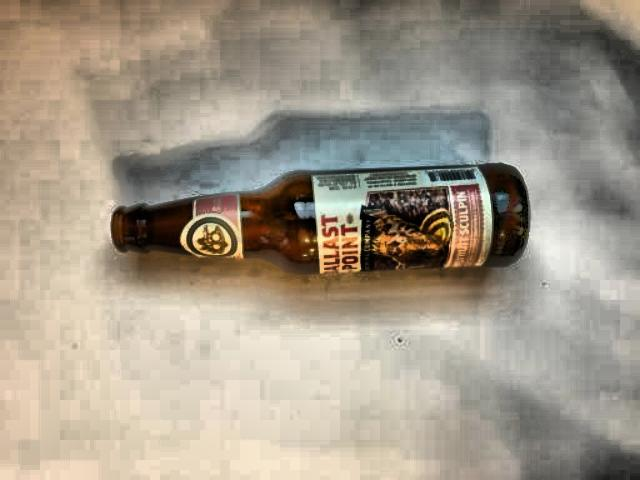Bottles: (88, 140, 534, 307)
